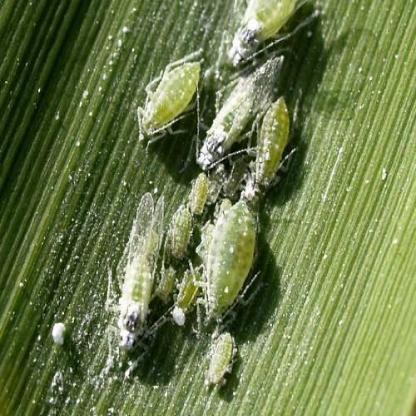aphid: (198, 51, 283, 177), (107, 188, 166, 364), (134, 38, 208, 155), (198, 192, 260, 324), (245, 96, 294, 193), (228, 3, 302, 66), (164, 196, 197, 263), (204, 330, 237, 390), (172, 262, 199, 322), (208, 158, 241, 198), (186, 172, 211, 217), (155, 264, 179, 306)
